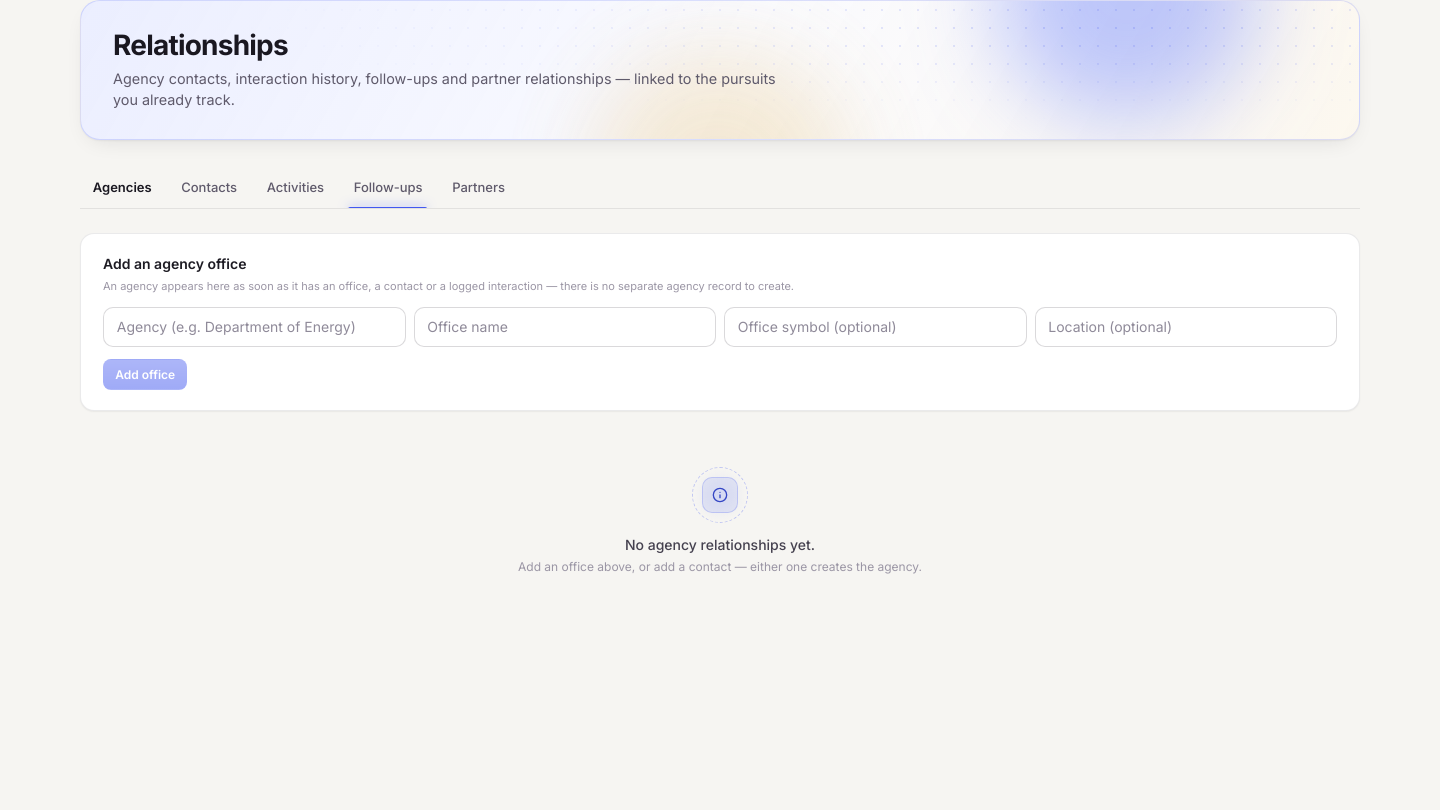
Test: CRM page › marks a past-due follow-up as overdue
Click the button "Follow-ups" at point(388, 188), box [341,168,435,208]
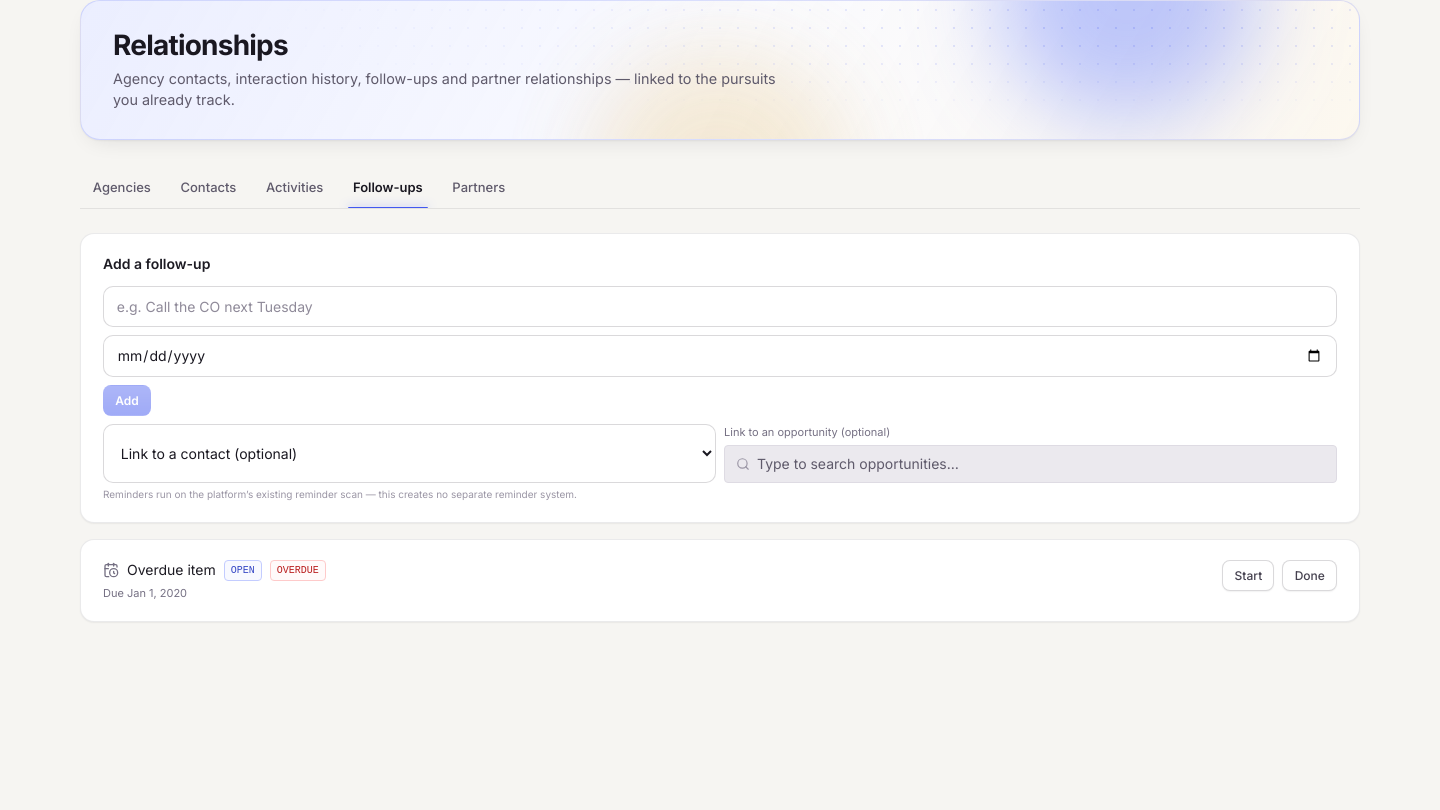
expect the text "OVERDUE" is shown: met, box [270,560,326,581]
